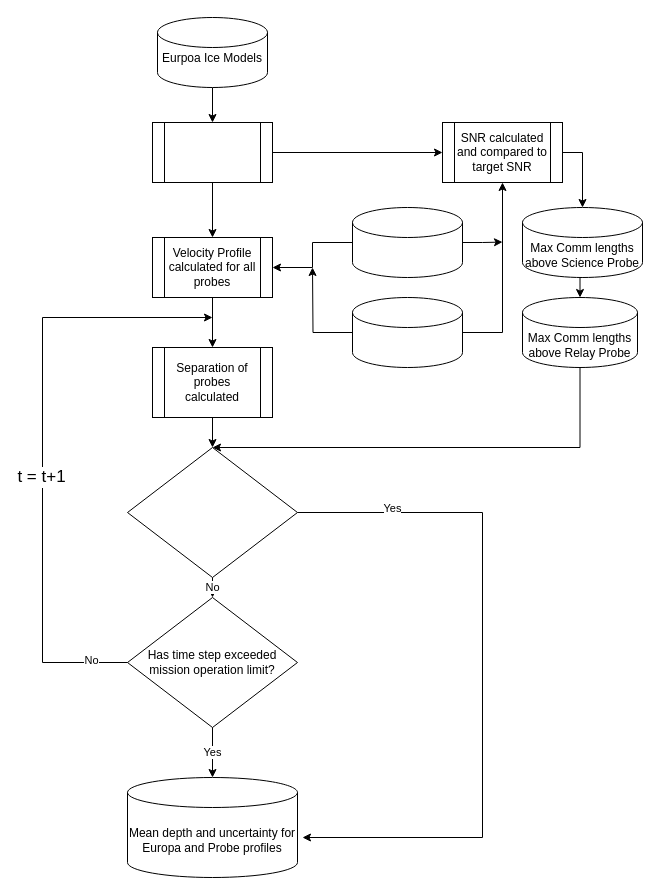
The diagram is 660 pixels wide and 895 high, and some of its shapes have lost their labels. Each missing label, with the centre of its shape:
"1D Slicing and Interpolation" goes at (212,152).
"Is separation of probes too great for positive comms?" goes at (212,512).
"Relay Probe Parameters" goes at (407,332).
"Scientific Probe Parameters" goes at (407,242).
